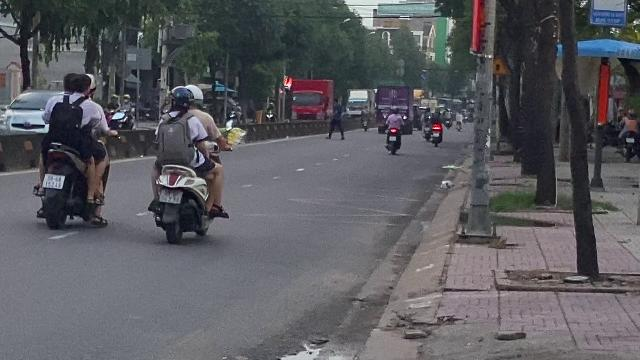helmet: (169, 84, 191, 111), (184, 84, 203, 105)
licenseplate: (42, 174, 64, 188), (160, 189, 180, 203)
motorcyclist: (145, 82, 229, 244), (31, 70, 113, 230)
nohelmet: (67, 74, 91, 98)
